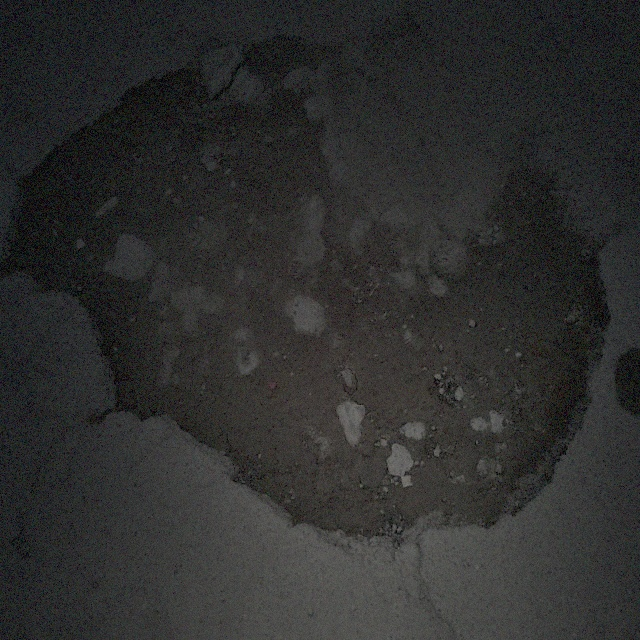pothole: (6, 24, 611, 552)
